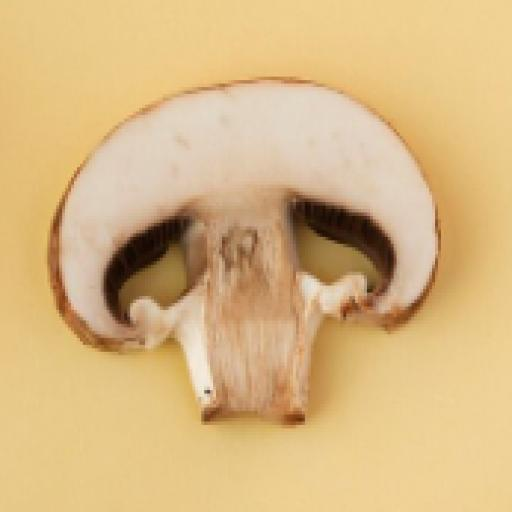mushroom: (44, 70, 451, 430)
